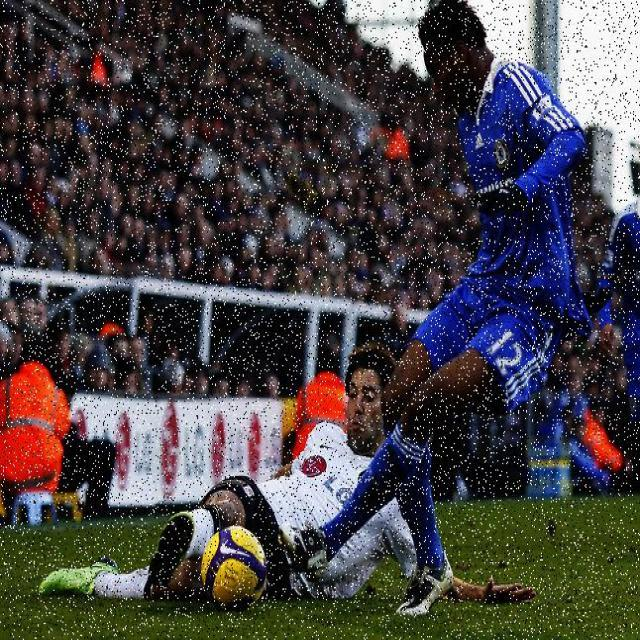fall: (44, 366, 404, 602)
